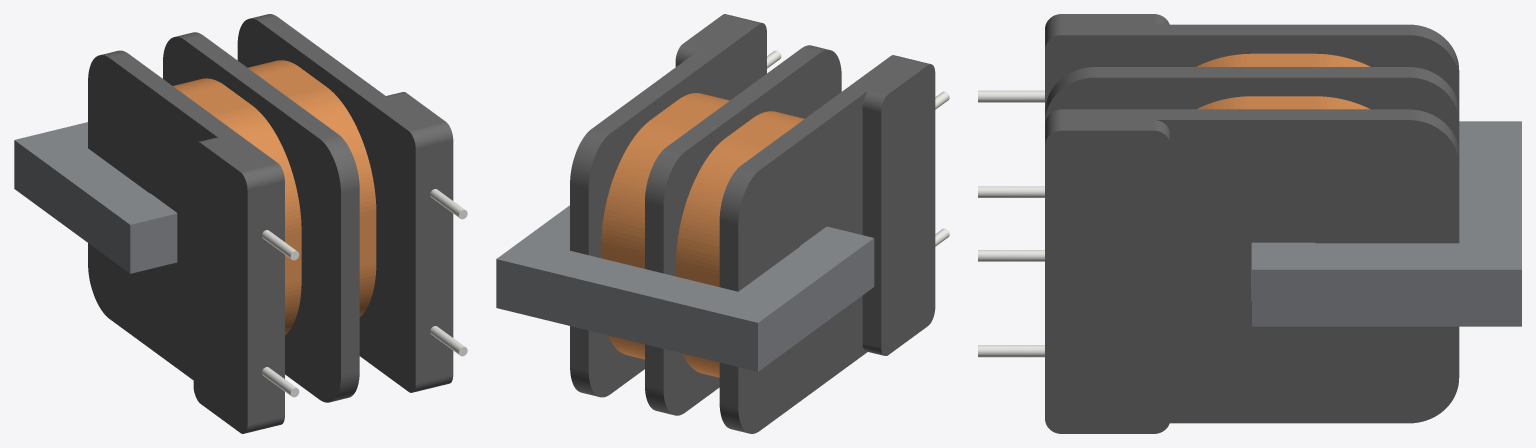
Rendered from L_CommonMode_Vertical_L22mm_W20mm_Px10.5mm_Py13.5mm_ProdTech_PDUUAT16.glb.
3 views of the same model, side by side, from view 1: azimuth 30°, elevation 25°; view 2: azimuth 150°, elevation 25°; view 3: azimuth 270°, elevation 25° (orthographic). The views are drawn at different scales.
Parts seen in each view (by area): view 1: Shape_IndexedFaceSet.059, Shape_IndexedFaceSet.067, Shape_IndexedFaceSet.090, Shape_IndexedFaceSet.005, Shape_IndexedFaceSet.054, Shape_IndexedFaceSet.038, Shape_IndexedFaceSet.096, Shape_IndexedFaceSet.003, Shape_IndexedFaceSet.002, Shape_IndexedFaceSet.012, Shape_IndexedFaceSet.045, Shape_IndexedFaceSet.099 (+22 smaller); view 2: Shape_IndexedFaceSet.059, Shape_IndexedFaceSet.090, Shape_IndexedFaceSet.053, Shape_IndexedFaceSet.038, Shape_IndexedFaceSet.067, Shape_IndexedFaceSet.012, Shape_IndexedFaceSet.054, Shape_IndexedFaceSet.086, Shape_IndexedFaceSet.029, Shape_IndexedFaceSet.075, Shape_IndexedFaceSet.005, Shape_IndexedFaceSet.046 (+26 smaller); view 3: Shape_IndexedFaceSet.036, Shape_IndexedFaceSet.006, Shape_IndexedFaceSet.052, Shape_IndexedFaceSet.038, Shape_IndexedFaceSet.035, Shape_IndexedFaceSet.079, Shape_IndexedFaceSet.093, Shape_IndexedFaceSet.046, Shape_IndexedFaceSet.073, Shape_IndexedFaceSet.027, Shape_IndexedFaceSet.020, Shape_IndexedFaceSet.089 (+16 smaller).
Boxes of the visible parts, x1,y1,x2,y2 form: Shape_IndexedFaceSet.059: [88, 55, 217, 380]; Shape_IndexedFaceSet.067: [163, 36, 340, 402]; Shape_IndexedFaceSet.090: [193, 142, 247, 433]; Shape_IndexedFaceSet.005: [362, 101, 415, 384]; Shape_IndexedFaceSet.054: [14, 140, 130, 273]; Shape_IndexedFaceSet.038: [15, 122, 177, 224]; Shape_IndexedFaceSet.096: [247, 181, 284, 424]; Shape_IndexedFaceSet.003: [415, 140, 453, 383]; Shape_IndexedFaceSet.002: [415, 171, 434, 357]; Shape_IndexedFaceSet.012: [237, 18, 367, 361]; Shape_IndexedFaceSet.045: [341, 189, 359, 376]; Shape_IndexedFaceSet.099: [266, 207, 284, 394]; Shape_IndexedFaceSet.059: [738, 91, 867, 433]; Shape_IndexedFaceSet.090: [881, 64, 935, 355]; Shape_IndexedFaceSet.053: [496, 259, 757, 371]; Shape_IndexedFaceSet.038: [497, 205, 873, 322]; Shape_IndexedFaceSet.067: [663, 50, 841, 415]; Shape_IndexedFaceSet.012: [588, 54, 718, 397]; Shape_IndexedFaceSet.054: [758, 238, 874, 371]; Shape_IndexedFaceSet.086: [676, 138, 764, 274]; Shape_IndexedFaceSet.029: [601, 120, 689, 256]; Shape_IndexedFaceSet.075: [862, 108, 881, 347]; Shape_IndexedFaceSet.005: [713, 31, 766, 100]; Shape_IndexedFaceSet.046: [666, 48, 819, 151]; Shape_IndexedFaceSet.036: [1156, 120, 1459, 423]; Shape_IndexedFaceSet.006: [1045, 130, 1170, 433]; Shape_IndexedFaceSet.052: [1252, 269, 1521, 326]; Shape_IndexedFaceSet.038: [1252, 121, 1521, 269]; Shape_IndexedFaceSet.035: [1045, 77, 1459, 154]; Shape_IndexedFaceSet.079: [1157, 35, 1459, 111]; Shape_IndexedFaceSet.093: [1045, 35, 1170, 108]; Shape_IndexedFaceSet.046: [1095, 67, 1408, 77]; Shape_IndexedFaceSet.073: [1153, 24, 1408, 35]; Shape_IndexedFaceSet.027: [1153, 109, 1408, 119]; Shape_IndexedFaceSet.020: [1061, 109, 1153, 130]; Shape_IndexedFaceSet.089: [1061, 14, 1153, 35].
Bounding box in the file's own units: 8.27 × 7.87 × 12.8.
